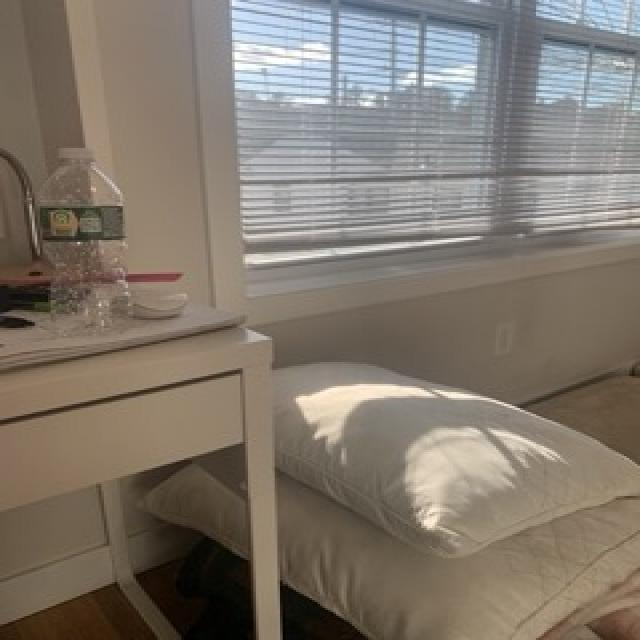water_bottle: (30, 144, 140, 340)
